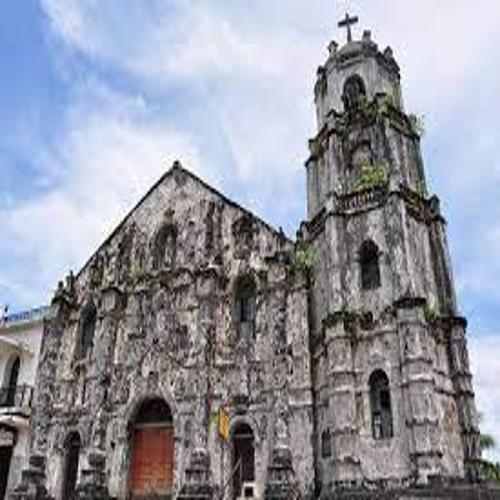Daraga Church: (36, 6, 483, 500)
